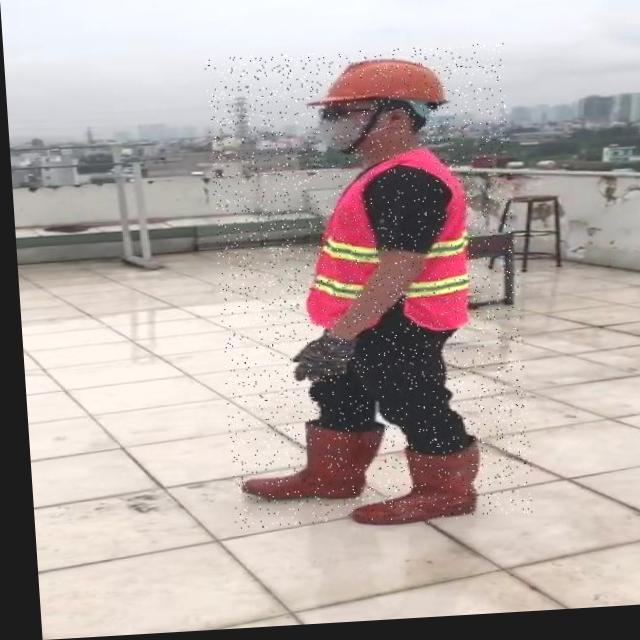Gloves: (284, 331, 353, 388)
Helmet: (301, 59, 446, 119)
Safety-Boot: (231, 417, 381, 507), (339, 439, 478, 531)
Safety-Vest: (292, 149, 471, 344)
